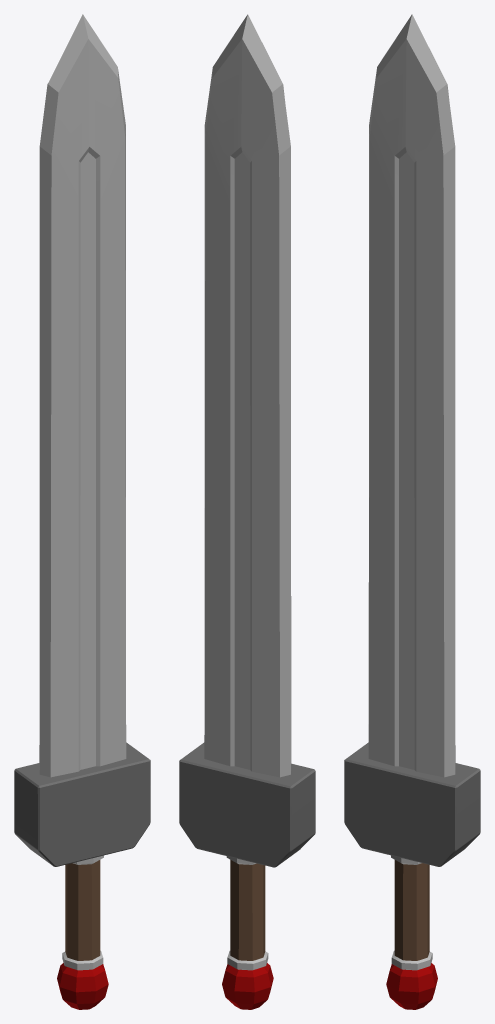
File: Sword_1.fbx
The picture shows the model from 3 angles, left to right: view 1: azimuth 30°, elevation 25°; view 2: azimuth 150°, elevation 25°; view 3: azimuth 330°, elevation 25°; orthographic projection.
Visible parts, largest first — view 1: pCube3, pCube1, pCylinder2; view 2: pCube3, pCube1, pCylinder2; view 3: pCube3, pCube1, pCylinder2.
Part boxes in pixels (box(x1,y1,x2,y2)): pCube3: box(39, 14, 126, 777); pCube1: box(14, 742, 150, 866); pCylinder2: box(57, 855, 108, 1009); pCube3: box(204, 14, 291, 777); pCube1: box(179, 742, 315, 867); pCylinder2: box(222, 856, 273, 1009); pCube3: box(368, 14, 455, 777); pCube1: box(344, 742, 480, 866); pCylinder2: box(386, 855, 437, 1009).
Size of the model in its own units: 0.6157 by 5.18 by 0.2535.
